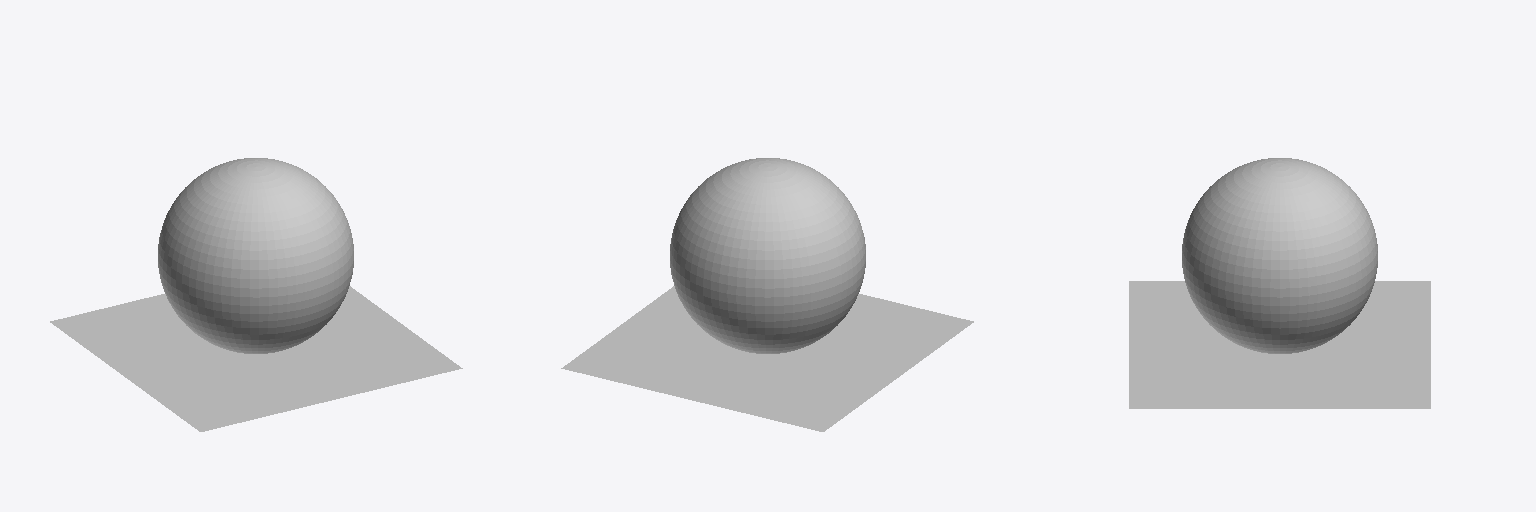
File: hdri.obj
3 views of the same model, side by side, from view 1: azimuth 30°, elevation 25°; view 2: azimuth 150°, elevation 25°; view 3: azimuth 270°, elevation 25° (orthographic).
Visible parts, largest first — view 1: Sphere, Plane; view 2: Sphere, Plane; view 3: Sphere, Plane.
Part boxes in pixels (x1,y1,x2,y2): Sphere: (158, 158, 353, 353); Plane: (50, 286, 462, 431); Sphere: (670, 158, 865, 353); Plane: (561, 286, 973, 431); Sphere: (1182, 158, 1377, 353); Plane: (1129, 281, 1430, 408).
Size of the model in its own units: 3.08 by 2 by 3.08.